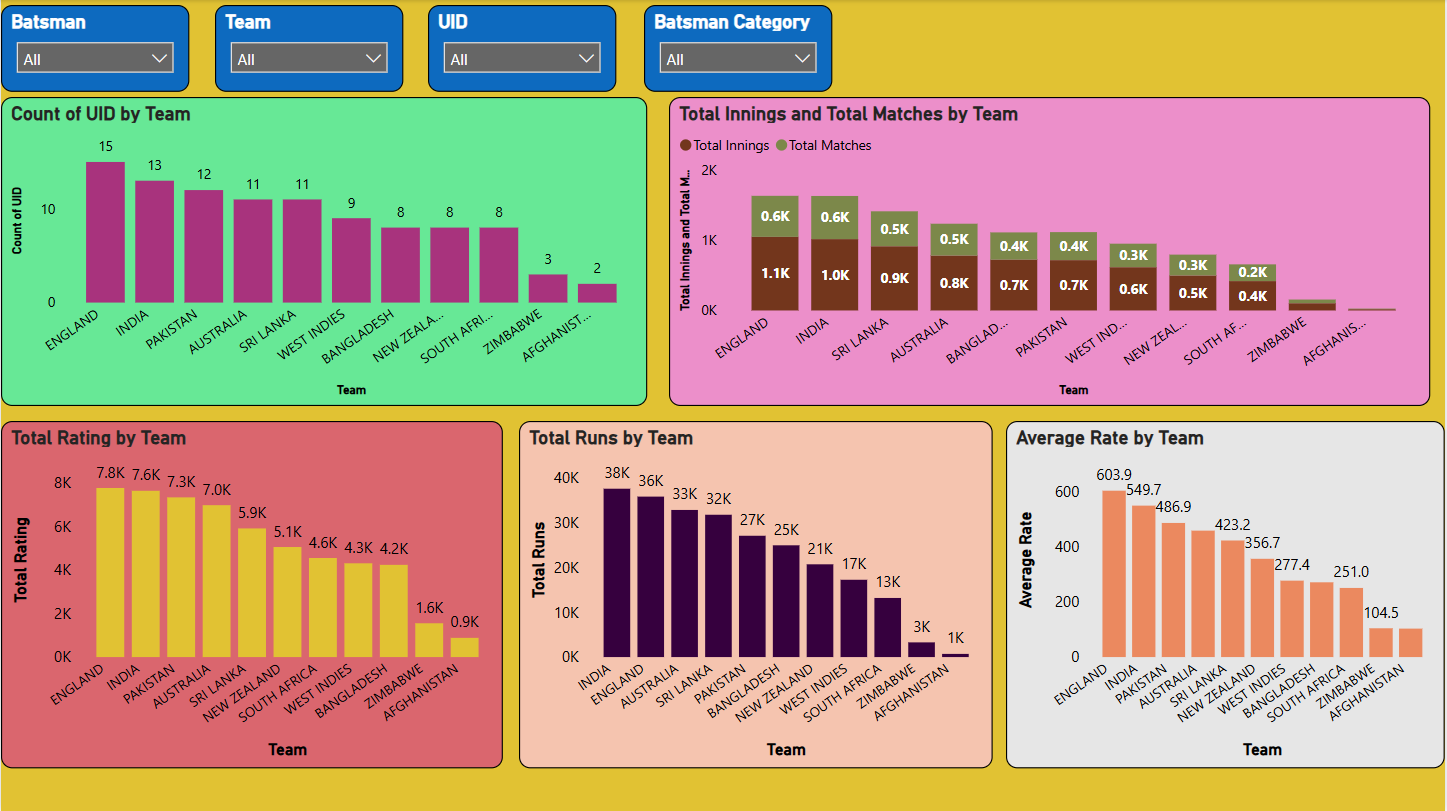

Layout of this report page (visuals, bound fields, positions):
{"tool":"powerbi","page":{"name":"Team Analysis","canvas":[1280,720],"ordinal":4},"visuals":[{"type":"columnChart","fields":{"Category":["top100batsman.team"],"Y":["CountNonNull(top100batsman.UID)"]},"box":[0,85.6,572.9,274.3],"z":0},{"type":"columnChart","fields":{"Y":["Sum(top100batsman.innings)","Sum(top100batsman.matches)"],"Category":["top100batsman.team"]},"box":[592.3,85.6,675,274.3],"z":1000},{"type":"columnChart","fields":{"Category":["top100batsman.team"],"Y":["Sum(top100batsman.rating)"]},"box":[0,373.5,445.5,308.3],"z":2000},{"type":"columnChart","fields":{"Category":["top100batsman.team"],"Y":["Sum(top100batsman.average)"]},"box":[890.9,373.5,389.1,308.3],"z":3000},{"type":"columnChart","fields":{"Category":["top100batsman.team"],"Y":["Sum(top100batsman.runs)"]},"box":[459.1,373.5,420.2,308.3],"z":4000},{"type":"slicer","title":"Team","fields":{"Values":["top100batsman.team"]},"box":[189.7,4.9,167.3,76.8],"z":5000},{"type":"slicer","title":"Batsman","fields":{"Values":["top100batsman.batsman"]},"box":[0,4.9,167.3,76.8],"z":6000},{"type":"slicer","title":"UID","fields":{"Values":["top100batsman.UID"]},"box":[378.4,4.9,167.3,76.8],"z":7000},{"type":"slicer","title":"Batsman Category","fields":{"Values":["top100batsman.Batsman Category"]},"box":[570,4.9,167.3,76.8],"z":8000}]}

Visuals, with their boxes in screenshot pixels (x1, y1, x2, y2), scaled from the page's 1280x720 canvas onto the 1447x811 screenshot:
columnChart - top100batsman.team x CountNonNull(top100batsman.UID): Rect(0, 96, 648, 405)
columnChart - Sum(top100batsman.innings) x Sum(top100batsman.matches): Rect(670, 96, 1433, 405)
columnChart - top100batsman.team x Sum(top100batsman.rating): Rect(0, 421, 504, 768)
columnChart - top100batsman.team x Sum(top100batsman.average): Rect(1007, 421, 1446, 768)
columnChart - top100batsman.team x Sum(top100batsman.runs): Rect(519, 421, 994, 768)
"Team" slicer: Rect(214, 6, 404, 92)
"Batsman" slicer: Rect(0, 6, 189, 92)
"UID" slicer: Rect(428, 6, 617, 92)
"Batsman Category" slicer: Rect(644, 6, 833, 92)
